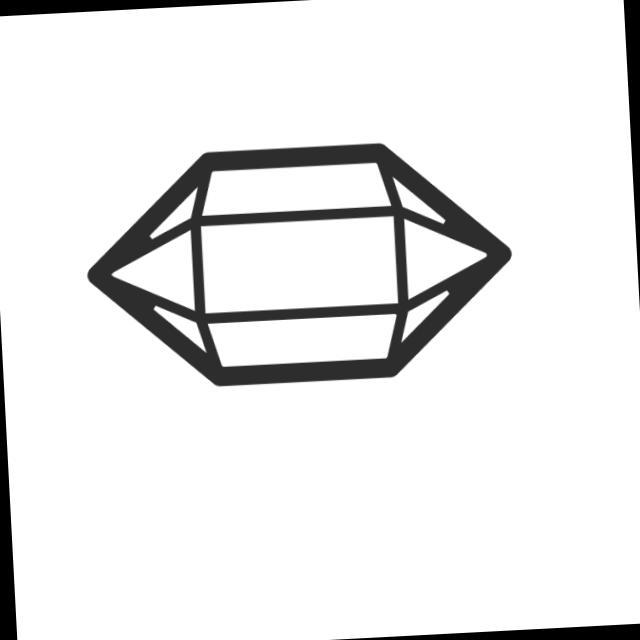crystal: (77, 131, 525, 402)
